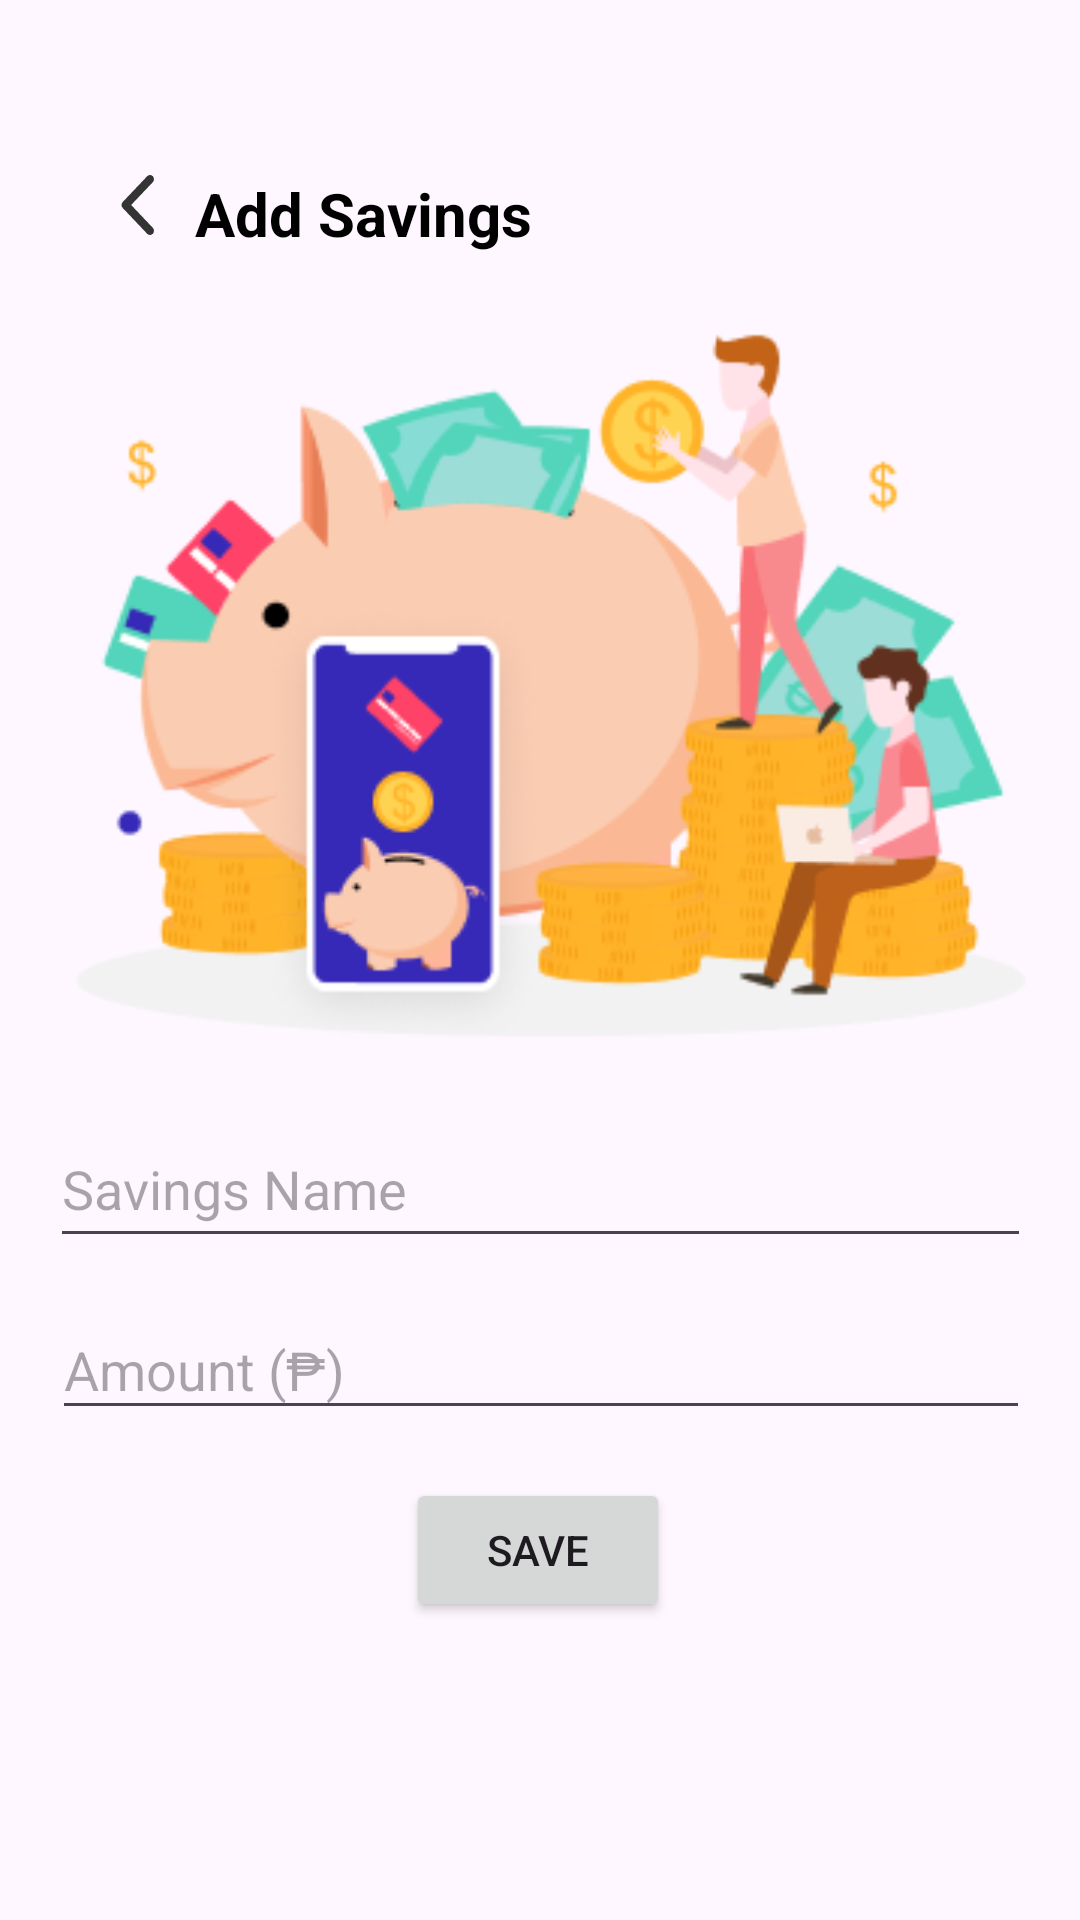

Icon bounding boxes for this 1080 x 1920 phone screenshot, format (x1, y1, x2, y2):
back navblack: (121, 175, 154, 235)
